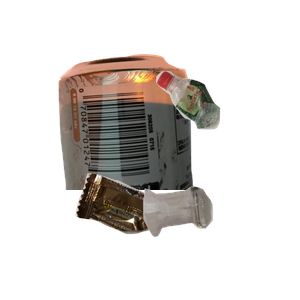glass: (141, 184, 300, 300)
metal: (56, 52, 242, 232)
plastic: (153, 68, 300, 190)
trash: (73, 171, 242, 300)
